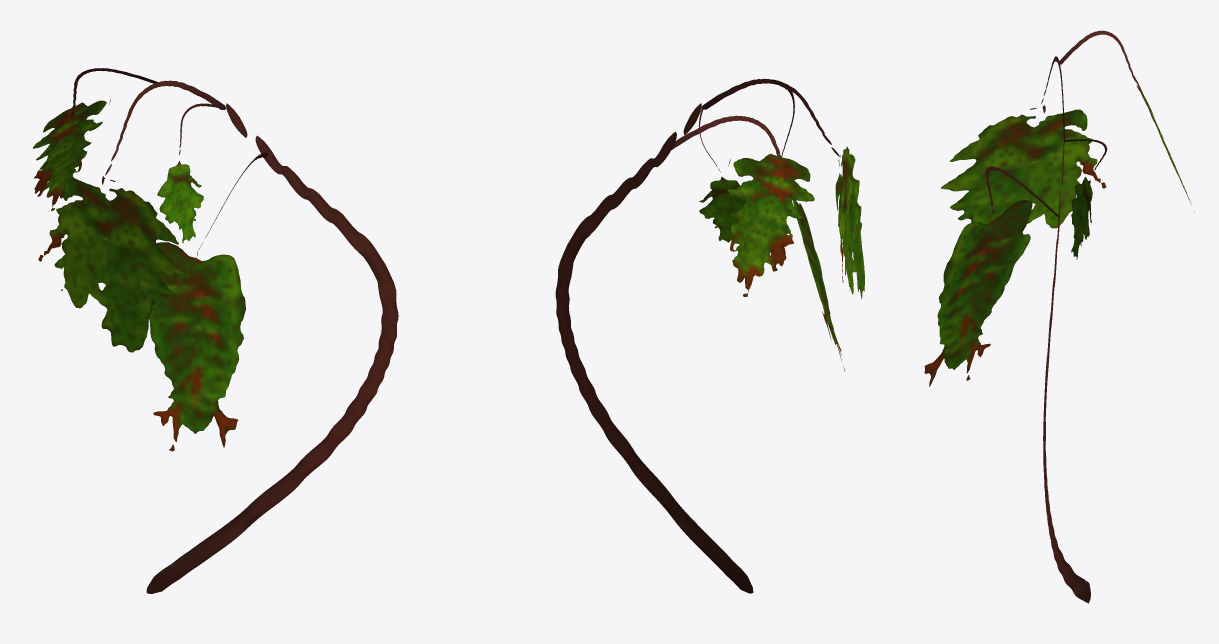
File: Spin Reef Flower D2.fbx
The picture shows the model from 3 angles, left to right: view 1: azimuth 30°, elevation 25°; view 2: azimuth 150°, elevation 25°; view 3: azimuth 270°, elevation 25°; orthographic projection. The views are drawn at different scales.
Parts seen in each view (by area): view 1: Spin Reef Flower D2; view 2: Spin Reef Flower D2; view 3: Spin Reef Flower D2.
Boxes of the visible parts, x1,y1,x2,y2 form: Spin Reef Flower D2: (33,68,398,593); Spin Reef Flower D2: (555,78,864,593); Spin Reef Flower D2: (924,30,1194,603).
Bounding box in the file's own units: 95.49 × 138 × 61.73.
